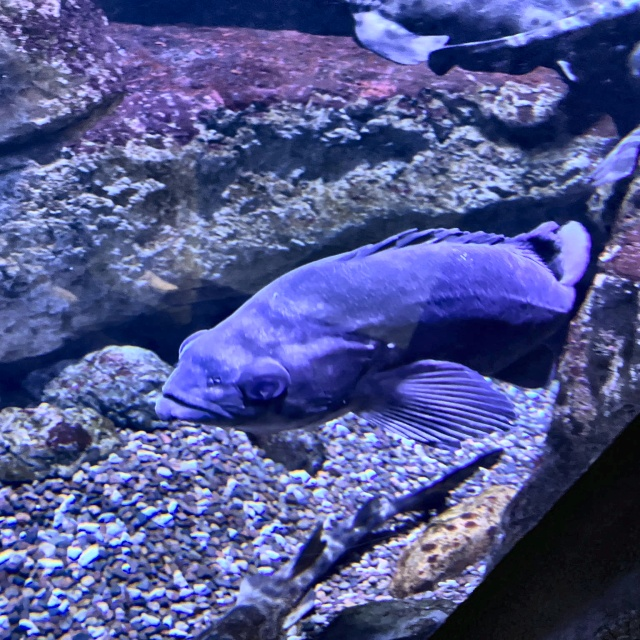fish: (156, 221, 589, 452)
shark: (181, 448, 501, 639), (347, 0, 639, 82)
